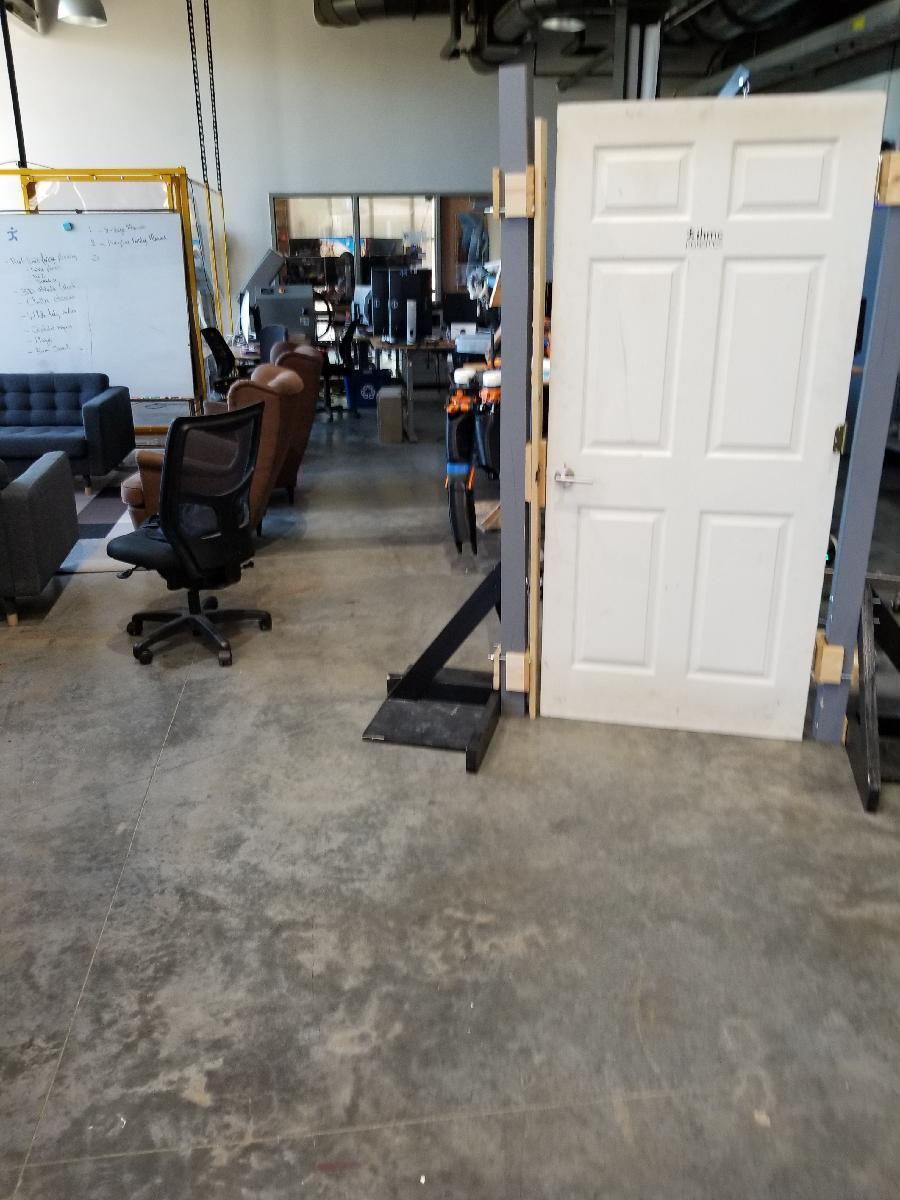door: (551, 105, 831, 730)
handle: (550, 465, 600, 502)
